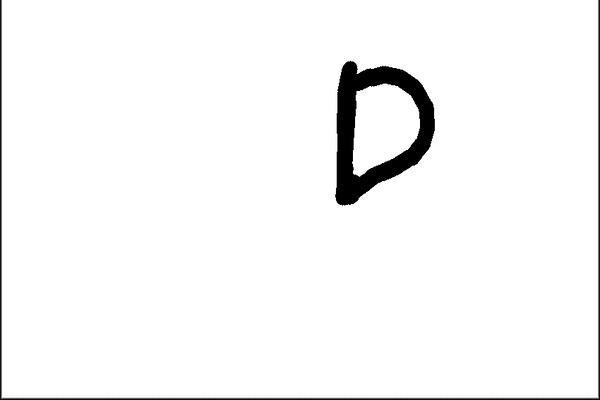D: (328, 52, 440, 211)
